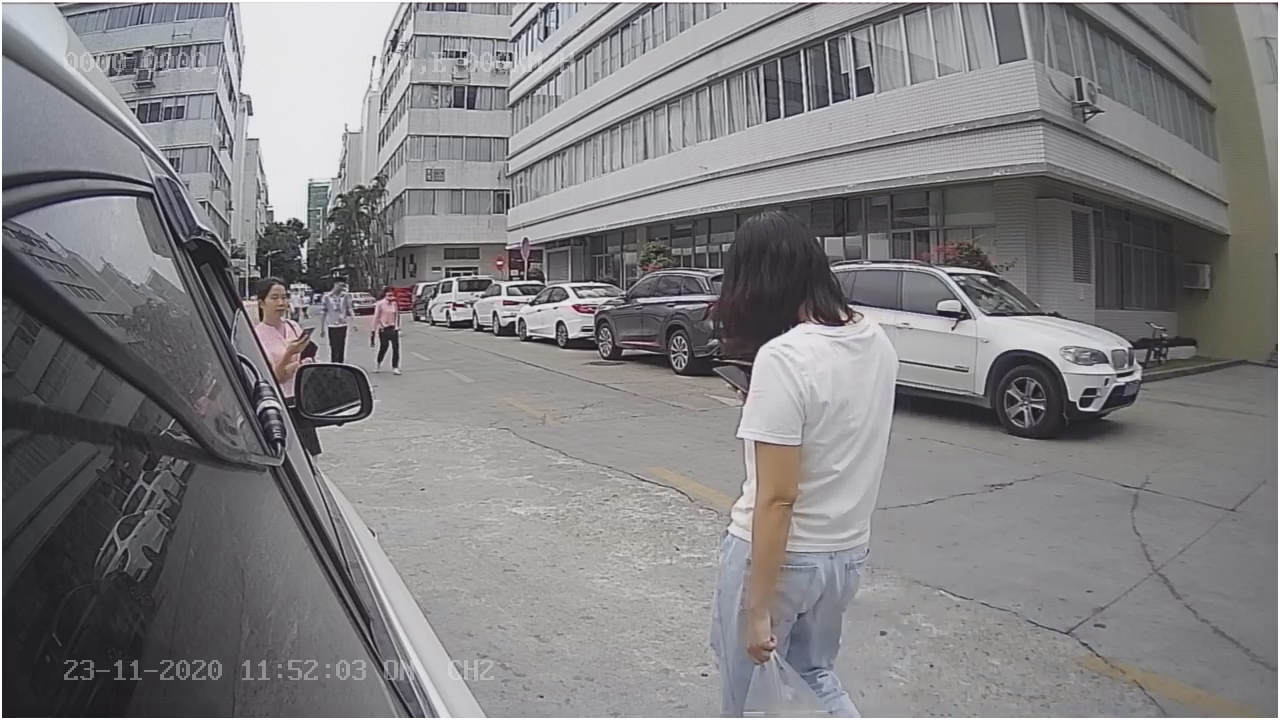person: (703, 212, 906, 557)
